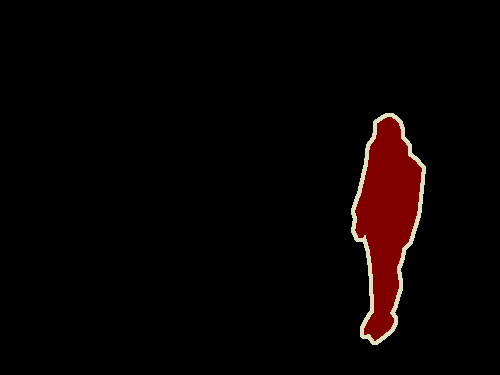person: (353, 115, 425, 342)
person/foot: (371, 316, 395, 341), (363, 314, 377, 335)
person/hand: (388, 235, 404, 253), (354, 225, 366, 240)
person/head: (377, 115, 402, 150)
